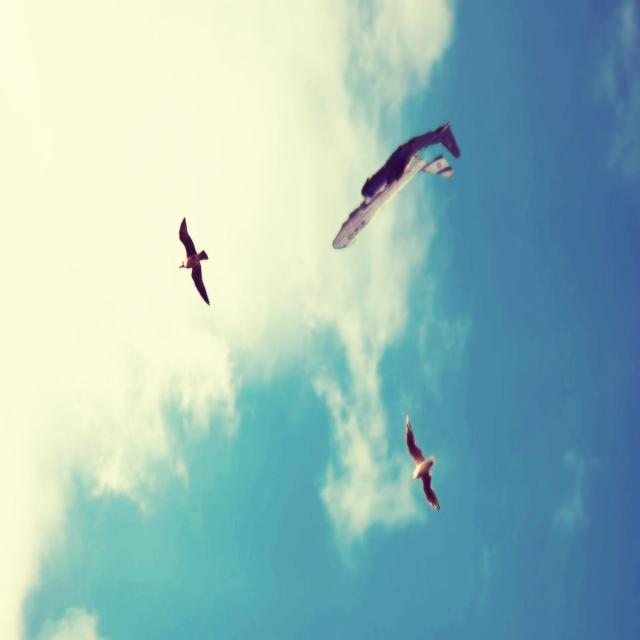airplane: (332, 120, 460, 250)
